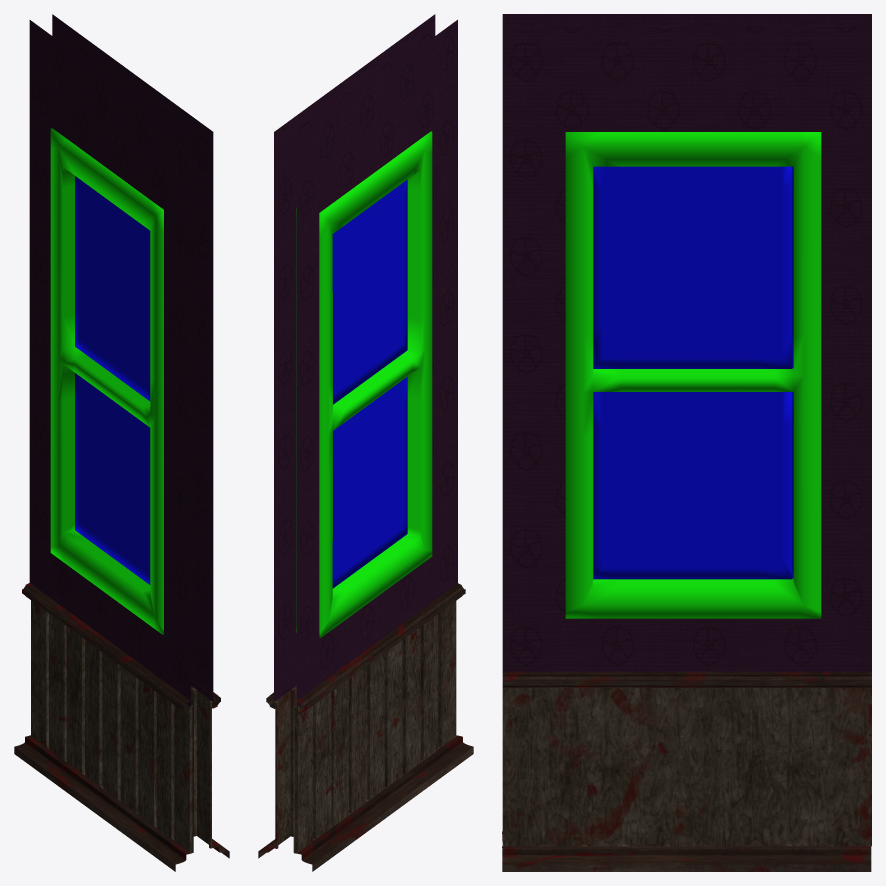
File: Orphange_WallwWindow.fbx
3 renders of one model, left to right at view 1: azimuth 30°, elevation 25°; view 2: azimuth 150°, elevation 25°; view 3: azimuth 270°, elevation 25°, orthographic. The views are drawn at different scales.
Parts seen in each view (by area): view 1: Wall.002; view 2: Wall.002; view 3: Wall.002.
Part boxes in pixels (<box>): Wall.002: <box>14,14,229,871</box>; Wall.002: <box>258,14,473,871</box>; Wall.002: <box>502,14,871,871</box>.
Size of the model in its own units: 3880 by 50004 by 20029.
